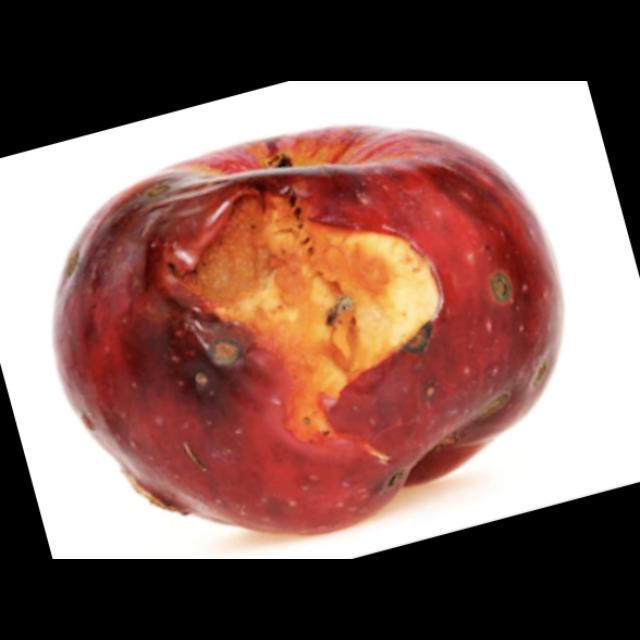Apel Tidak Segar: (48, 116, 568, 546)
